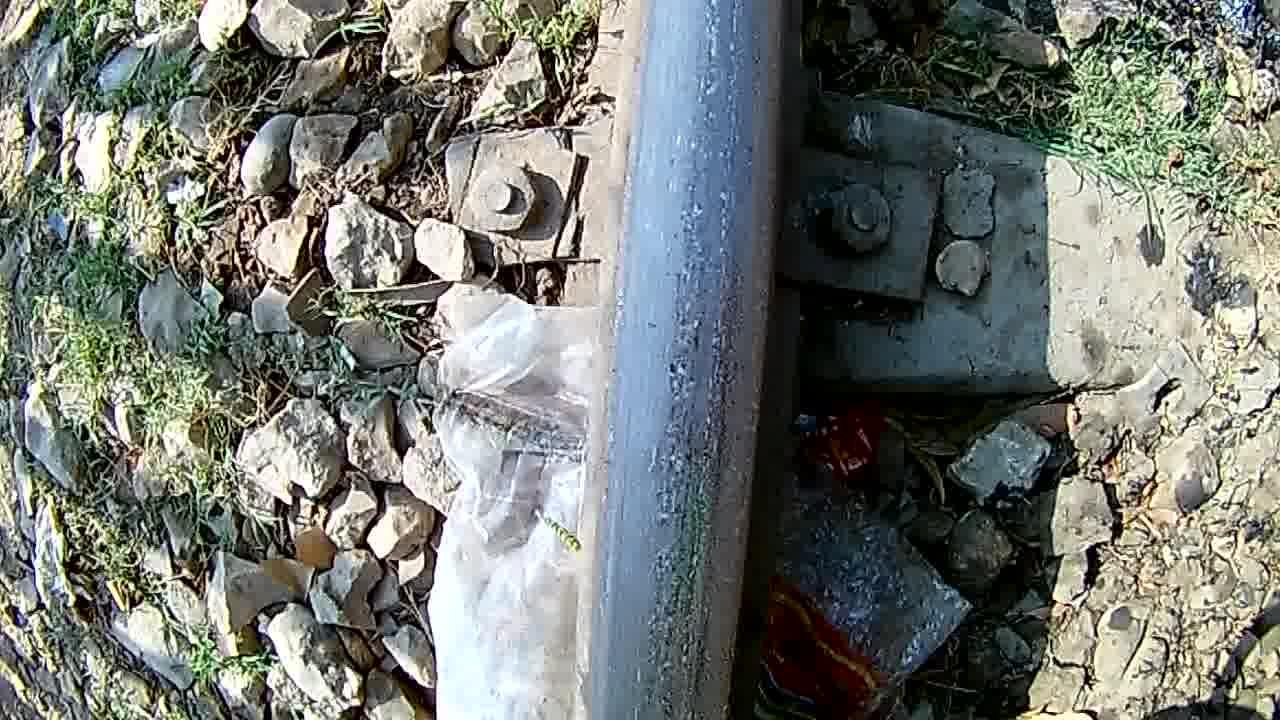clip_missing: (631, 0, 760, 718)
